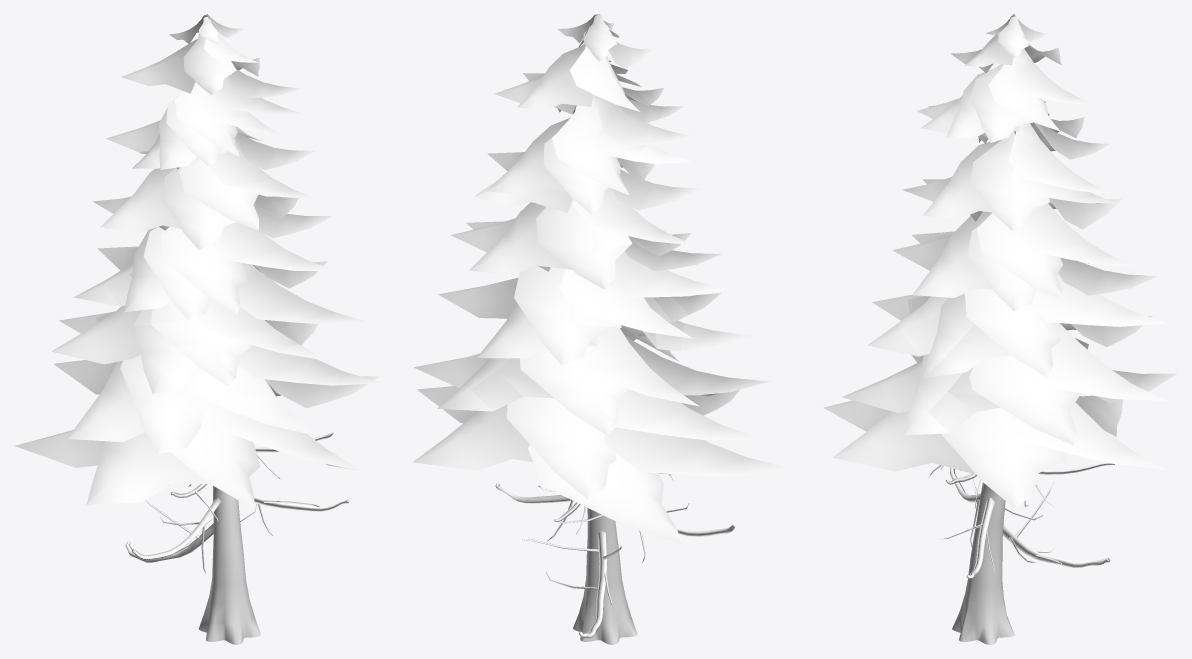
The model's file is sapin_4.glb.
3 renders of one model, left to right at view 1: azimuth 30°, elevation 25°; view 2: azimuth 150°, elevation 25°; view 3: azimuth 270°, elevation 25°, orthographic. The views are drawn at different scales.
Visible parts, largest first — view 1: Pine_4, Pine_4-col; view 2: Pine_4, Pine_4-col; view 3: Pine_4, Pine_4-col.
Part boxes in pixels (bbox=[...]): Pine_4: bbox=[15, 14, 382, 526]; Pine_4-col: bbox=[125, 486, 349, 644]; Pine_4: bbox=[413, 14, 793, 544]; Pine_4-col: bbox=[495, 483, 735, 644]; Pine_4: bbox=[823, 14, 1177, 508]; Pine_4-col: bbox=[939, 468, 1110, 644].
Bounding box in the file's own units: 5.8 × 10.24 × 5.37.
Materials: 2 (1 with a texture image).
